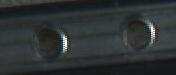joints: (29, 22, 70, 61), (120, 13, 158, 52)
